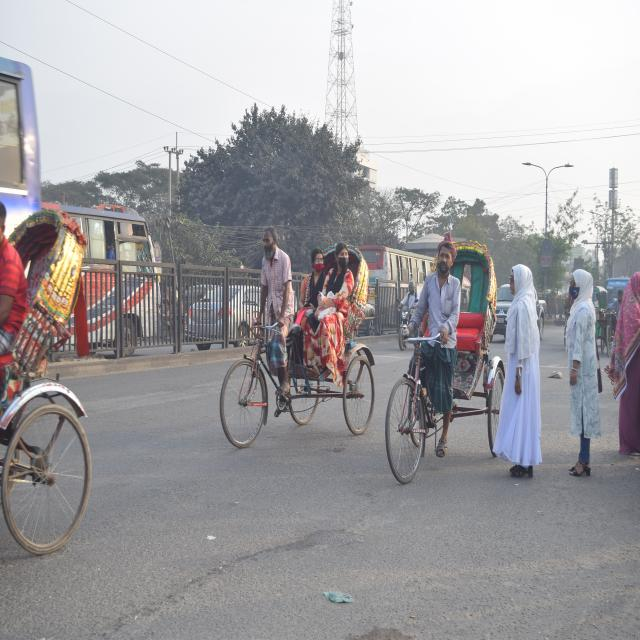bus: (57, 189, 164, 360), (363, 237, 438, 286)
car: (184, 279, 266, 342)
motorbike: (392, 301, 418, 356)
